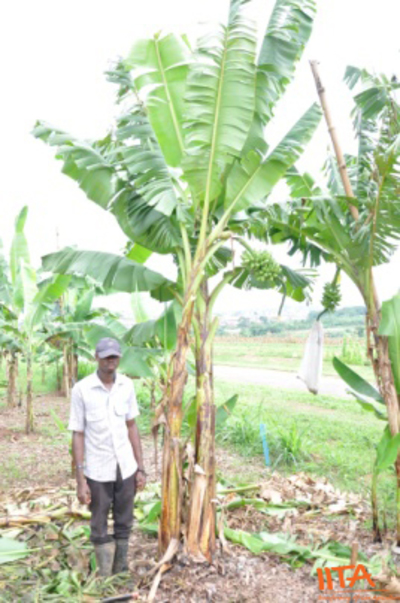bananaHand: (240, 251, 280, 283), (321, 279, 343, 315)
